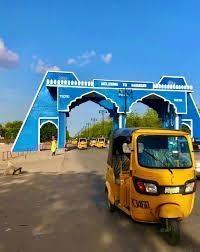keke: (104, 128, 200, 242)
